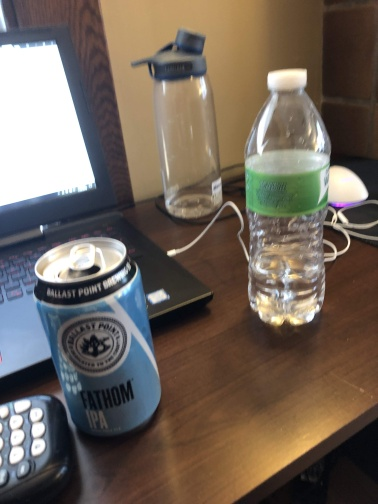bottle: (240, 65, 334, 330)
can: (27, 233, 168, 443)
